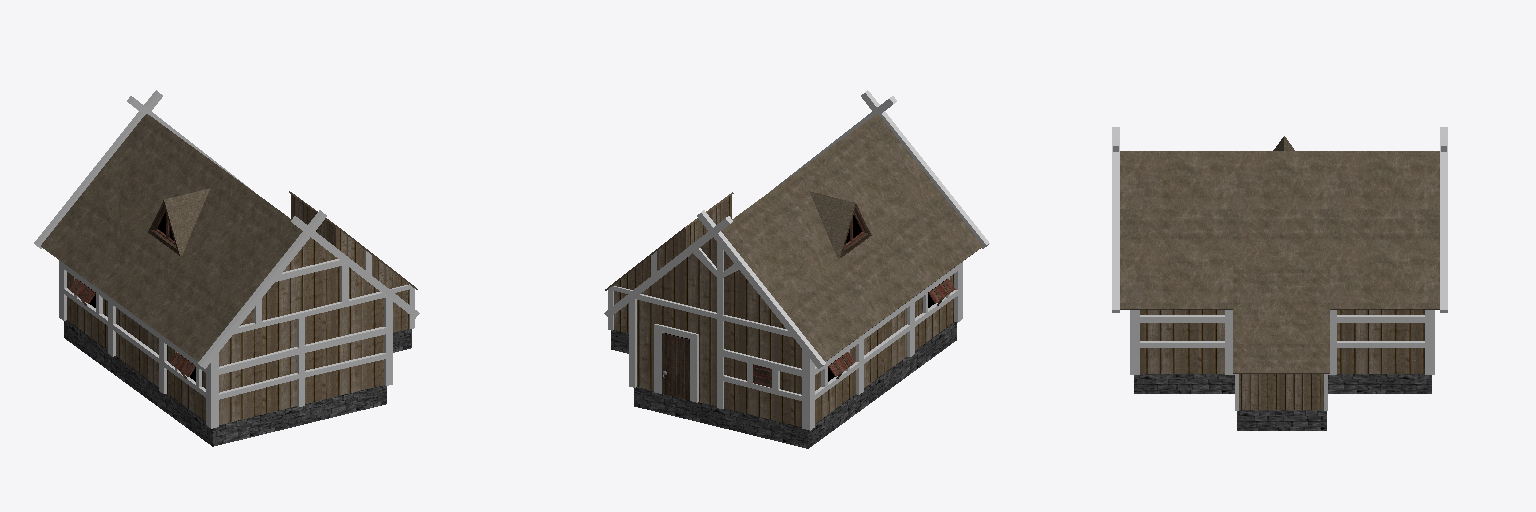
3 renders of one model, left to right at view 1: azimuth 30°, elevation 25°; view 2: azimuth 150°, elevation 25°; view 3: azimuth 270°, elevation 25°, orthographic.
Parts seen in each view (by area): view 1: Base_Base_0, Woods_Woods_0, Windows_Windows_0; view 2: Base_Base_0, Woods_Woods_0, Windows_Windows_0; view 3: Base_Base_0, Woods_Woods_0.
Part boxes in pixels (x1,y1,x2,y2): Base_Base_0: (41, 114, 417, 446); Woods_Woods_0: (34, 90, 419, 428); Windows_Windows_0: (69, 188, 209, 378); Base_Base_0: (605, 114, 982, 448); Woods_Woods_0: (604, 90, 989, 430); Windows_Windows_0: (662, 191, 955, 399); Base_Base_0: (1120, 151, 1439, 430); Woods_Woods_0: (1112, 127, 1447, 410).
Bounding box in the file's own units: 10.01 × 7.53 × 10.48.
Materials: 3 (2 with a texture image).